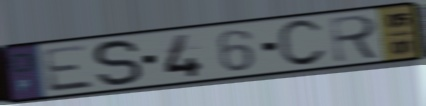4: (163, 32, 204, 79)
6: (215, 27, 258, 73)
C: (275, 18, 330, 69)
E: (40, 43, 97, 95)
R: (328, 12, 383, 65)
S: (90, 37, 145, 90)
